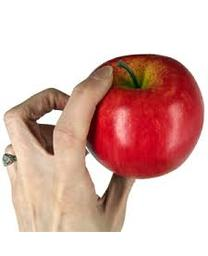apple: (85, 54, 203, 180)
